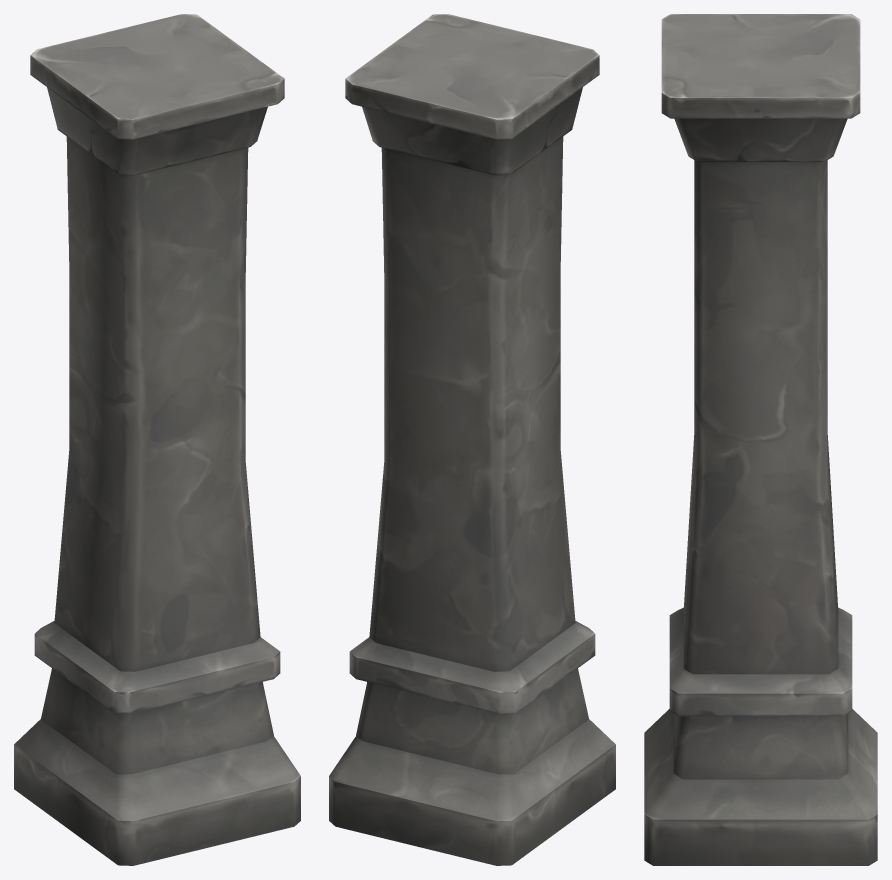
Rendered from sm_bg_column_01.fbx.
The picture shows the model from 3 angles, left to right: view 1: azimuth 30°, elevation 25°; view 2: azimuth 150°, elevation 25°; view 3: azimuth 270°, elevation 25°; orthographic projection. The views are drawn at different scales.
Parts seen in each view (by area): view 1: Box945; view 2: Box945; view 3: Box945.
Part boxes in pixels (x1,y1,x2,y2): Box945: (14,14,300,865); Box945: (329,14,615,865); Box945: (644,14,877,865).
Size of the model in its own units: 137 by 528 by 146.
1 material, 1 textured.
